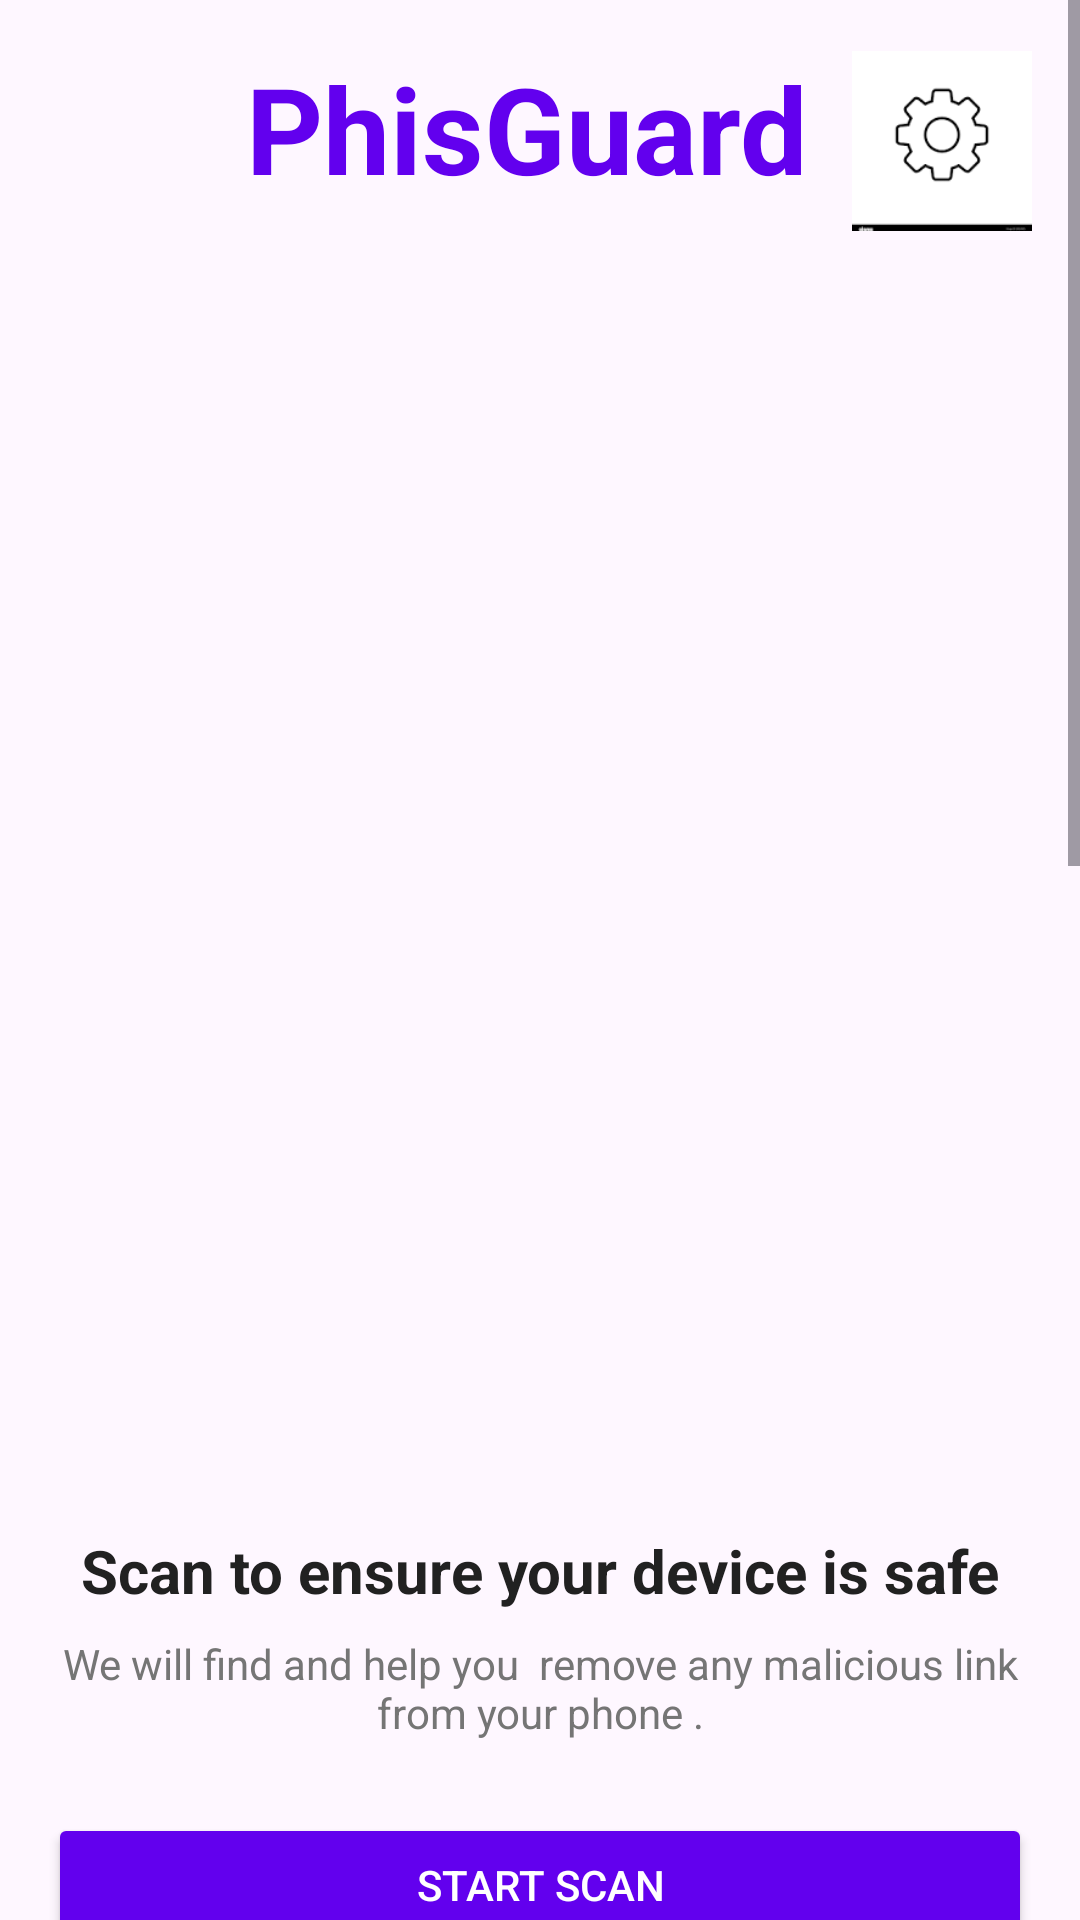

Named icons in this screenshot (1080 x 1920) and their bounding boxes, bbox=(x1, y1, x2, y2):
settings: bbox=(852, 88, 1032, 231)
